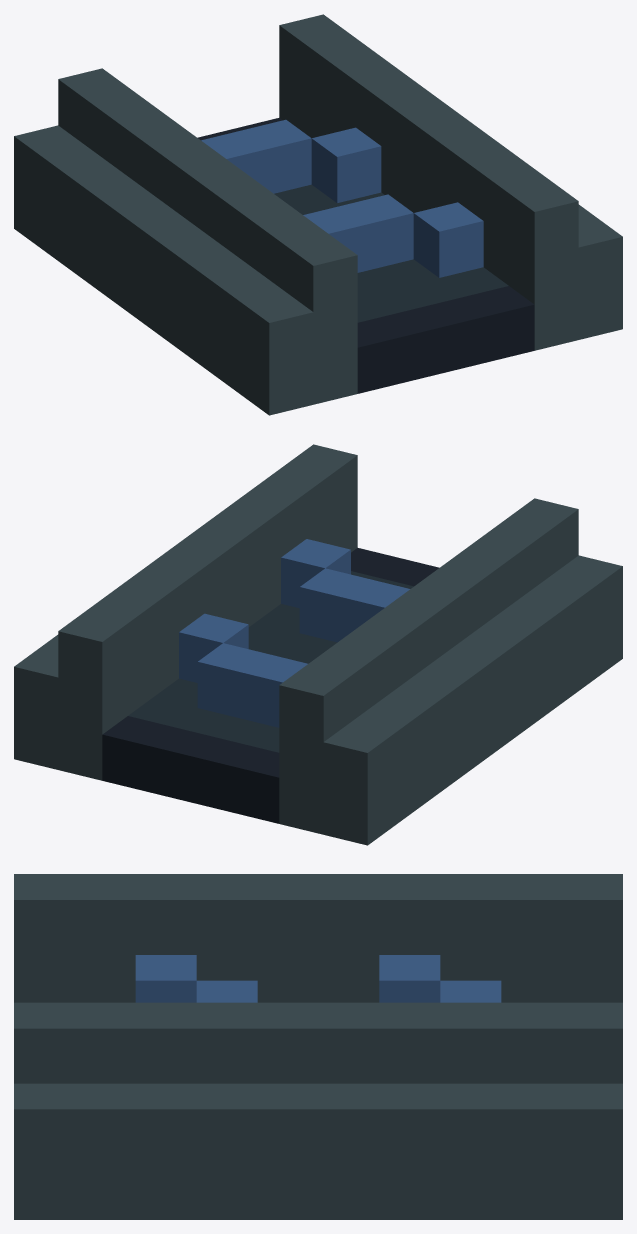
Rendered from ConveyorStraight.obj.
3 renders of one model, top to bottom at view 1: azimuth 30°, elevation 25°; view 2: azimuth 150°, elevation 25°; view 3: azimuth 270°, elevation 25°, orthographic. The views are drawn at different scales.
Bounding box in the file's own units: 0.8 × 0.3 × 1.
1 material, 1 textured.
